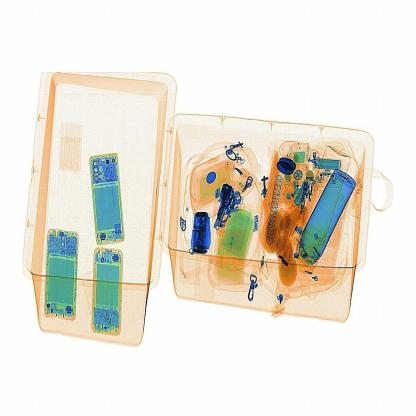scissors: (184, 204, 225, 259)
